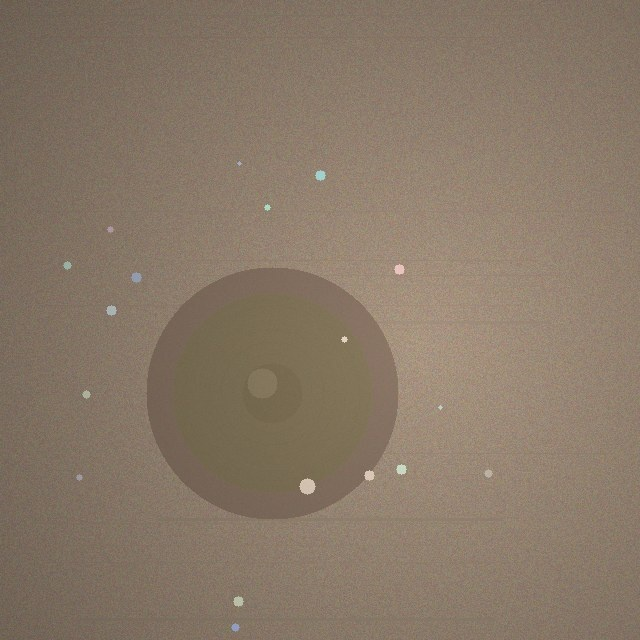overburn: (146, 267, 398, 519)
